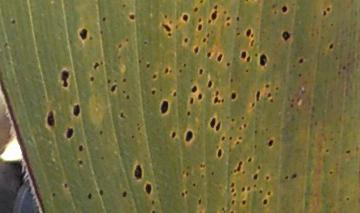tarspot: (60, 69, 70, 88), (45, 110, 55, 128), (159, 99, 169, 115), (133, 164, 142, 180), (79, 28, 88, 41), (259, 53, 267, 67), (208, 115, 216, 129), (233, 161, 242, 173), (66, 127, 74, 140), (185, 130, 193, 143), (72, 104, 80, 116), (144, 183, 152, 195), (118, 110, 127, 120), (282, 30, 290, 41), (127, 12, 136, 21), (162, 24, 172, 32), (217, 146, 223, 158), (181, 14, 189, 23), (110, 83, 117, 93), (245, 28, 252, 38), (211, 9, 217, 20), (217, 52, 223, 63), (207, 78, 213, 89), (193, 46, 201, 54), (77, 144, 84, 152), (281, 5, 288, 13), (214, 97, 221, 105), (240, 51, 247, 59), (256, 89, 260, 103), (216, 122, 222, 131), (231, 92, 237, 101), (267, 138, 273, 147), (120, 88, 127, 95), (199, 172, 206, 179), (9, 18, 17, 24), (77, 158, 83, 166), (121, 190, 127, 198), (93, 62, 99, 70), (62, 182, 68, 189), (86, 192, 92, 199), (151, 73, 157, 80), (197, 93, 203, 100), (171, 131, 177, 138), (121, 3, 128, 9), (344, 148, 351, 154), (291, 173, 297, 180), (262, 198, 268, 205), (220, 206, 226, 213), (99, 28, 105, 35), (97, 190, 105, 195), (115, 44, 123, 49), (193, 6, 198, 14), (329, 42, 334, 50), (322, 9, 327, 17), (253, 173, 258, 181), (51, 192, 57, 198), (99, 128, 103, 137), (145, 62, 151, 68), (178, 68, 184, 74), (207, 50, 211, 59), (214, 90, 220, 96), (266, 92, 272, 98), (298, 57, 304, 63), (168, 18, 174, 24), (106, 78, 111, 85), (151, 89, 156, 96), (192, 85, 197, 92), (198, 68, 203, 75), (198, 24, 203, 31), (208, 17, 213, 24), (246, 56, 251, 63), (266, 189, 271, 196), (197, 198, 202, 205), (199, 163, 206, 168), (273, 9, 278, 16), (342, 64, 347, 71), (250, 39, 254, 47), (327, 5, 331, 13), (125, 94, 130, 100), (122, 77, 127, 83), (164, 68, 169, 74), (206, 32, 211, 38), (226, 61, 231, 67), (243, 123, 248, 129), (284, 174, 289, 180), (265, 175, 270, 181), (241, 200, 247, 205), (230, 199, 235, 205), (240, 187, 246, 192), (89, 35, 94, 41), (174, 24, 179, 30), (271, 2, 276, 8), (236, 139, 240, 146), (298, 71, 302, 78), (211, 170, 215, 177), (325, 147, 329, 154), (151, 200, 156, 205), (90, 77, 95, 82), (186, 112, 191, 117), (143, 40, 148, 45), (213, 6, 218, 11), (226, 22, 231, 27), (236, 31, 241, 36), (270, 99, 275, 104), (265, 84, 270, 89), (258, 189, 263, 194), (230, 188, 235, 193), (230, 182, 235, 187), (246, 186, 251, 191), (329, 22, 334, 27), (102, 16, 106, 22), (173, 91, 177, 97), (184, 37, 188, 43), (183, 62, 187, 68), (190, 98, 194, 104), (222, 136, 226, 142), (236, 16, 240, 22), (221, 98, 225, 104), (245, 68, 249, 74), (255, 52, 259, 58), (251, 102, 255, 108), (239, 125, 243, 131), (185, 171, 189, 177), (151, 209, 156, 213), (168, 32, 172, 37), (203, 38, 207, 43), (199, 1, 204, 5), (223, 9, 227, 14), (226, 16, 231, 20), (229, 136, 233, 141), (248, 158, 252, 163), (275, 86, 280, 90), (329, 170, 333, 175), (253, 183, 257, 188), (181, 192, 185, 197), (184, 190, 189, 194), (136, 122, 140, 127), (254, 129, 258, 134), (346, 196, 349, 202), (131, 135, 135, 139), (164, 15, 168, 19), (198, 18, 202, 22), (241, 116, 245, 120), (290, 104, 294, 108), (257, 165, 261, 169), (233, 193, 237, 197), (137, 127, 141, 131), (126, 38, 129, 43), (139, 59, 142, 64), (238, 137, 243, 140), (230, 77, 233, 82), (193, 183, 196, 188), (232, 118, 234, 122)
